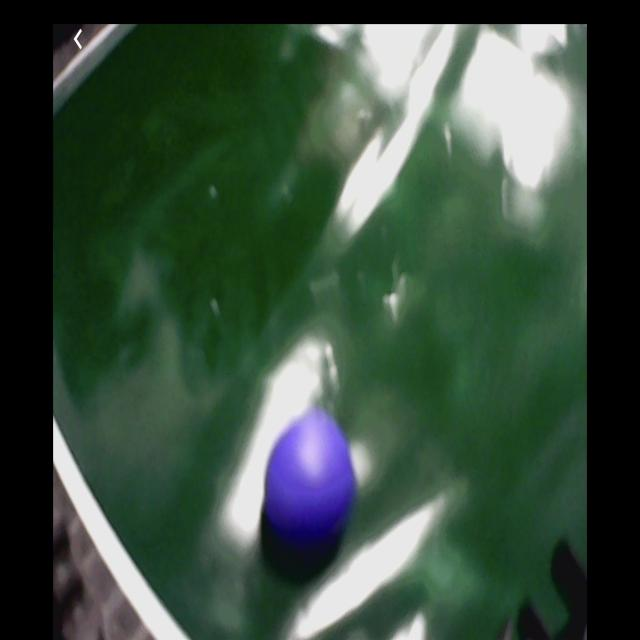ball: (267, 413, 356, 549)
